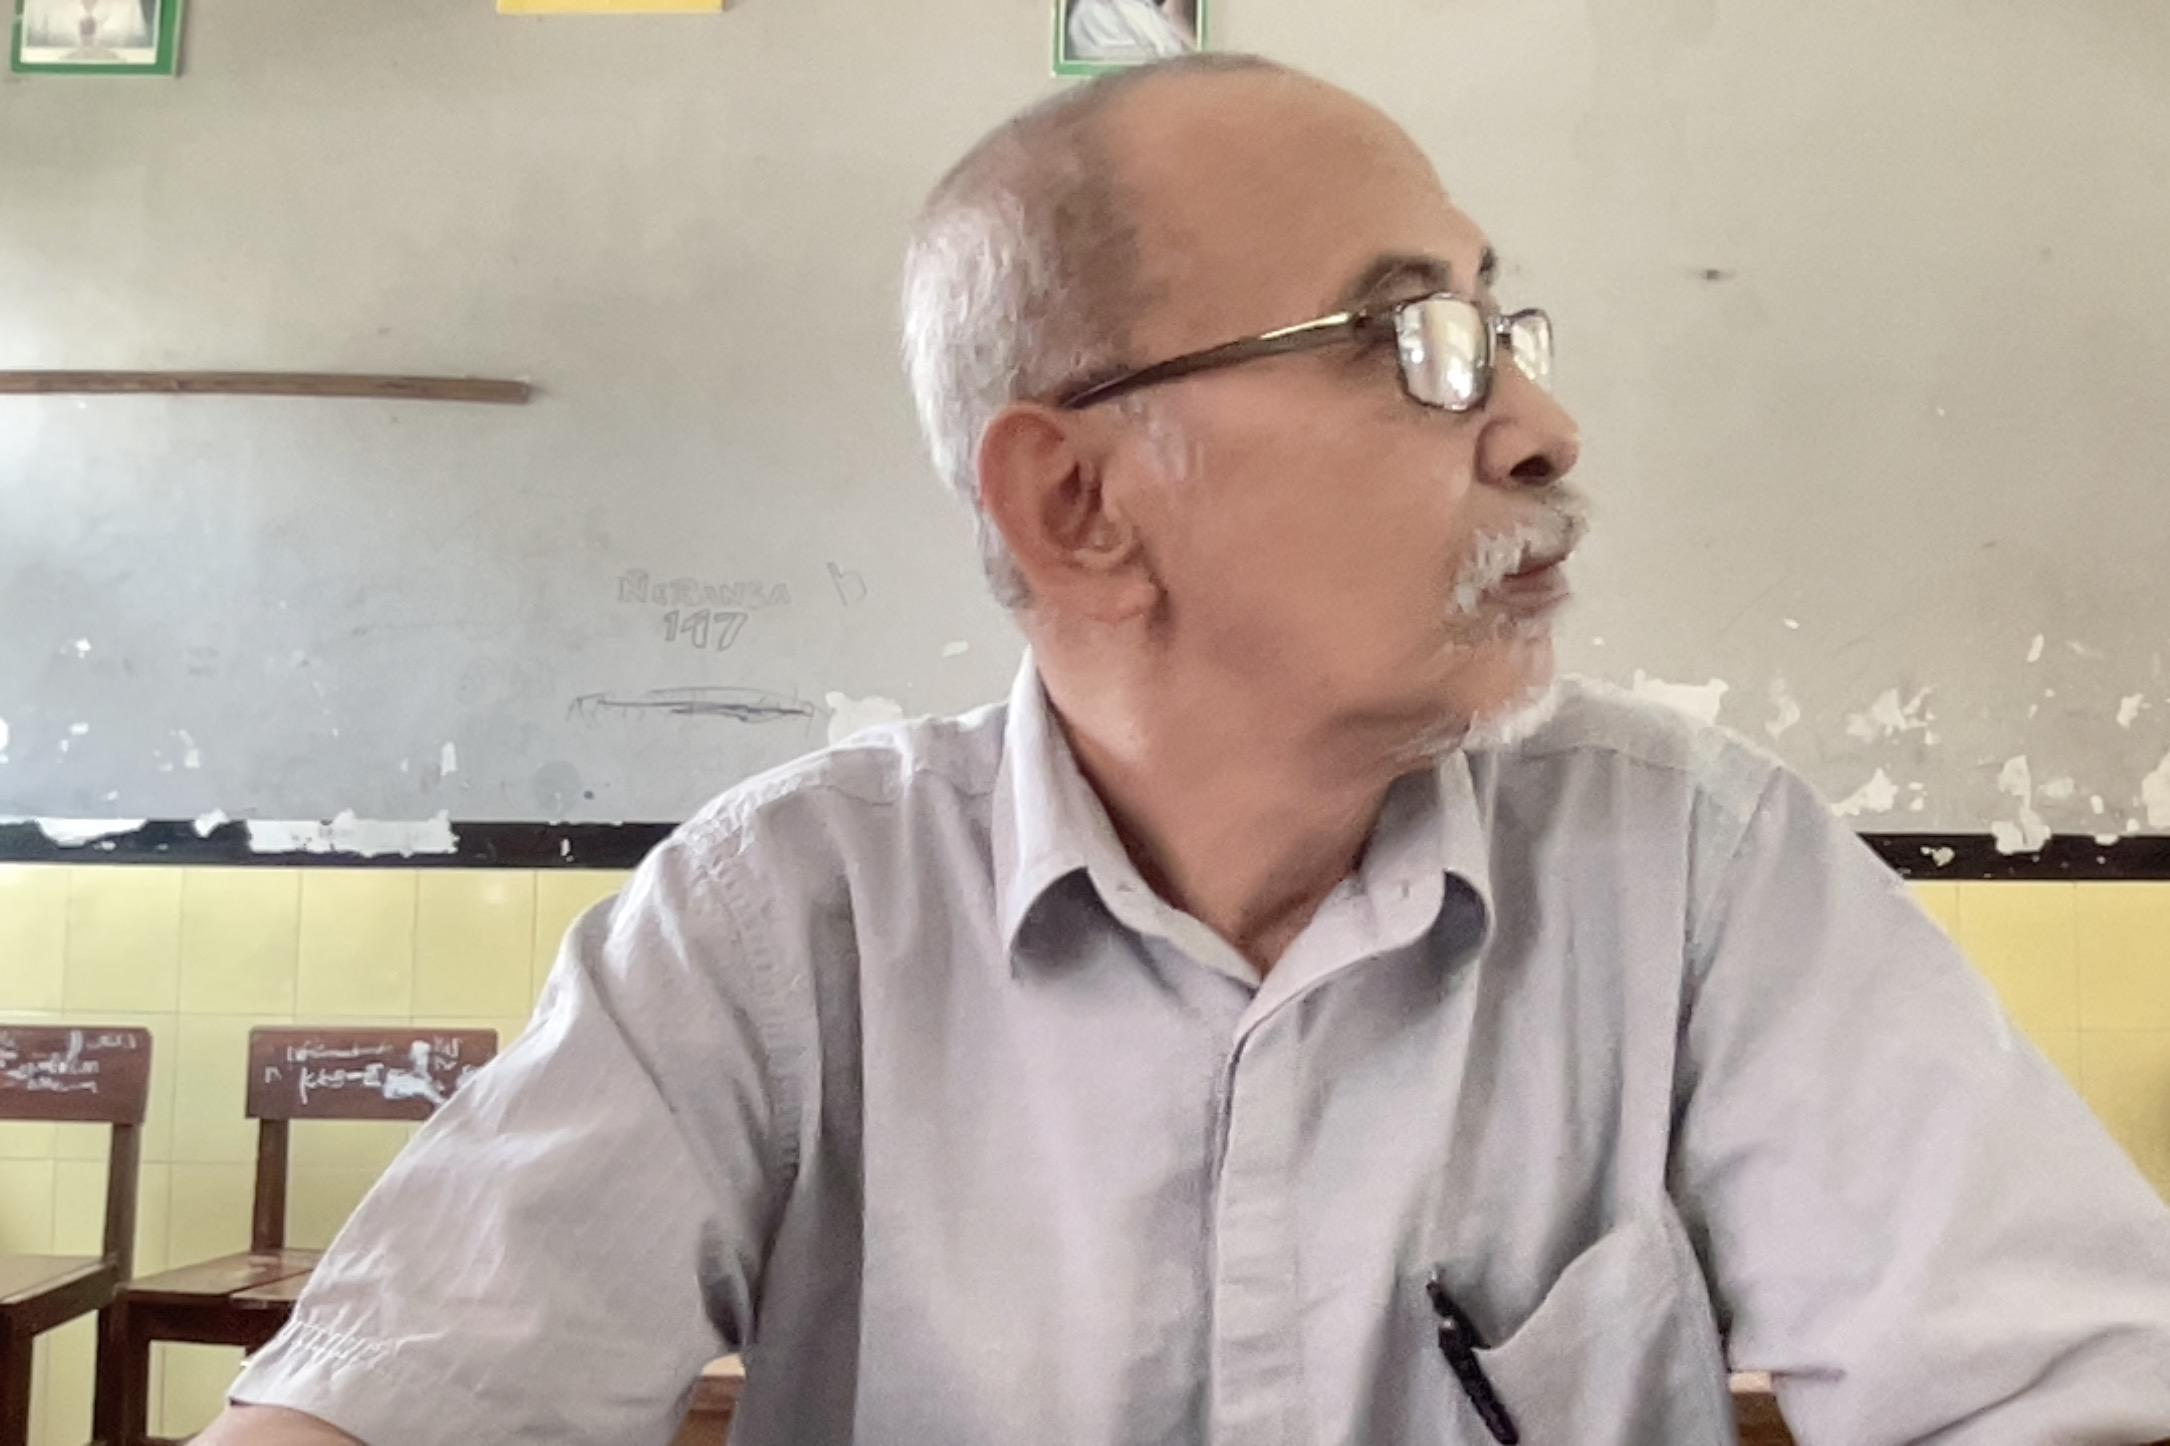cheating: (194, 31, 2170, 1446)
